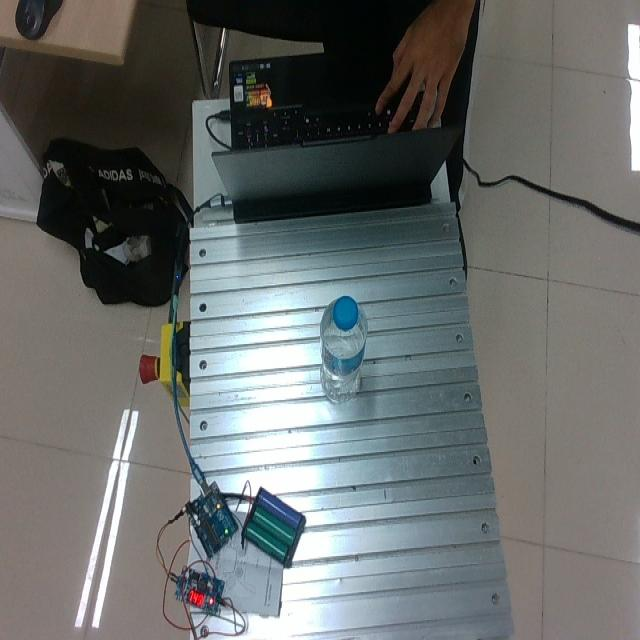lavie: (319, 293, 368, 405)
